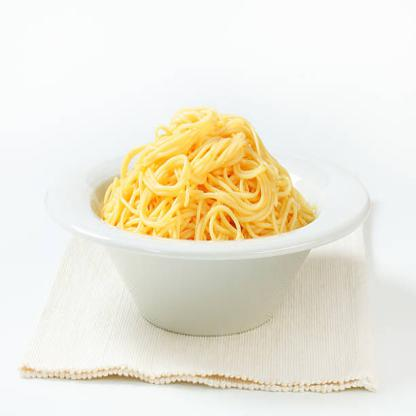Noodles: (97, 106, 316, 242)
